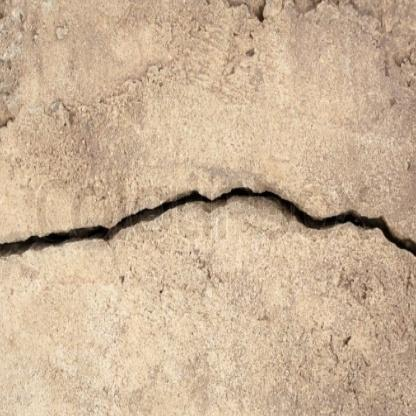Cracks: (0, 183, 416, 267)
